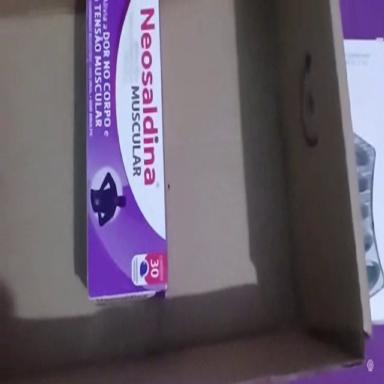Medicamento: (86, 0, 168, 299)
